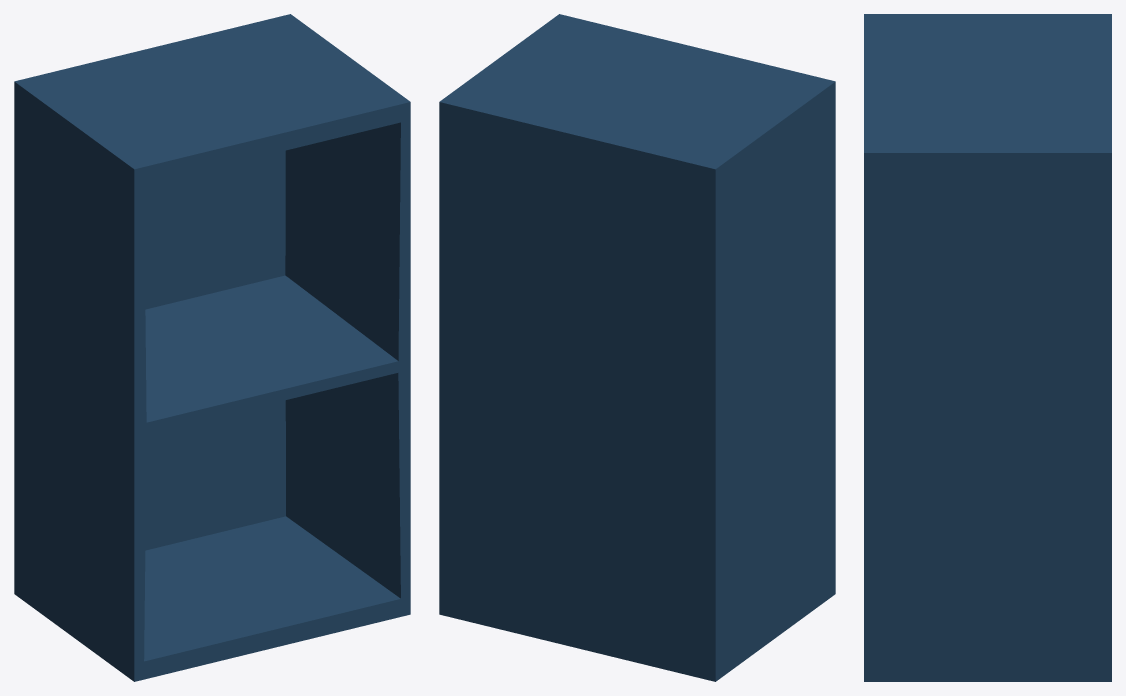
The model's file is shelf_mini1.fbx.
3 renders of one model, left to right at view 1: azimuth 30°, elevation 25°; view 2: azimuth 150°, elevation 25°; view 3: azimuth 270°, elevation 25°, orthographic. The views are drawn at different scales.
Parts seen in each view (by area): view 1: Cube; view 2: Cube; view 3: Cube.
Boxes of the visible parts, bbox=[...] form: Cube: bbox=[14, 14, 410, 681]; Cube: bbox=[439, 14, 835, 681]; Cube: bbox=[864, 14, 1111, 681].
Bounding box in the file's own units: 266 × 471 × 200.
